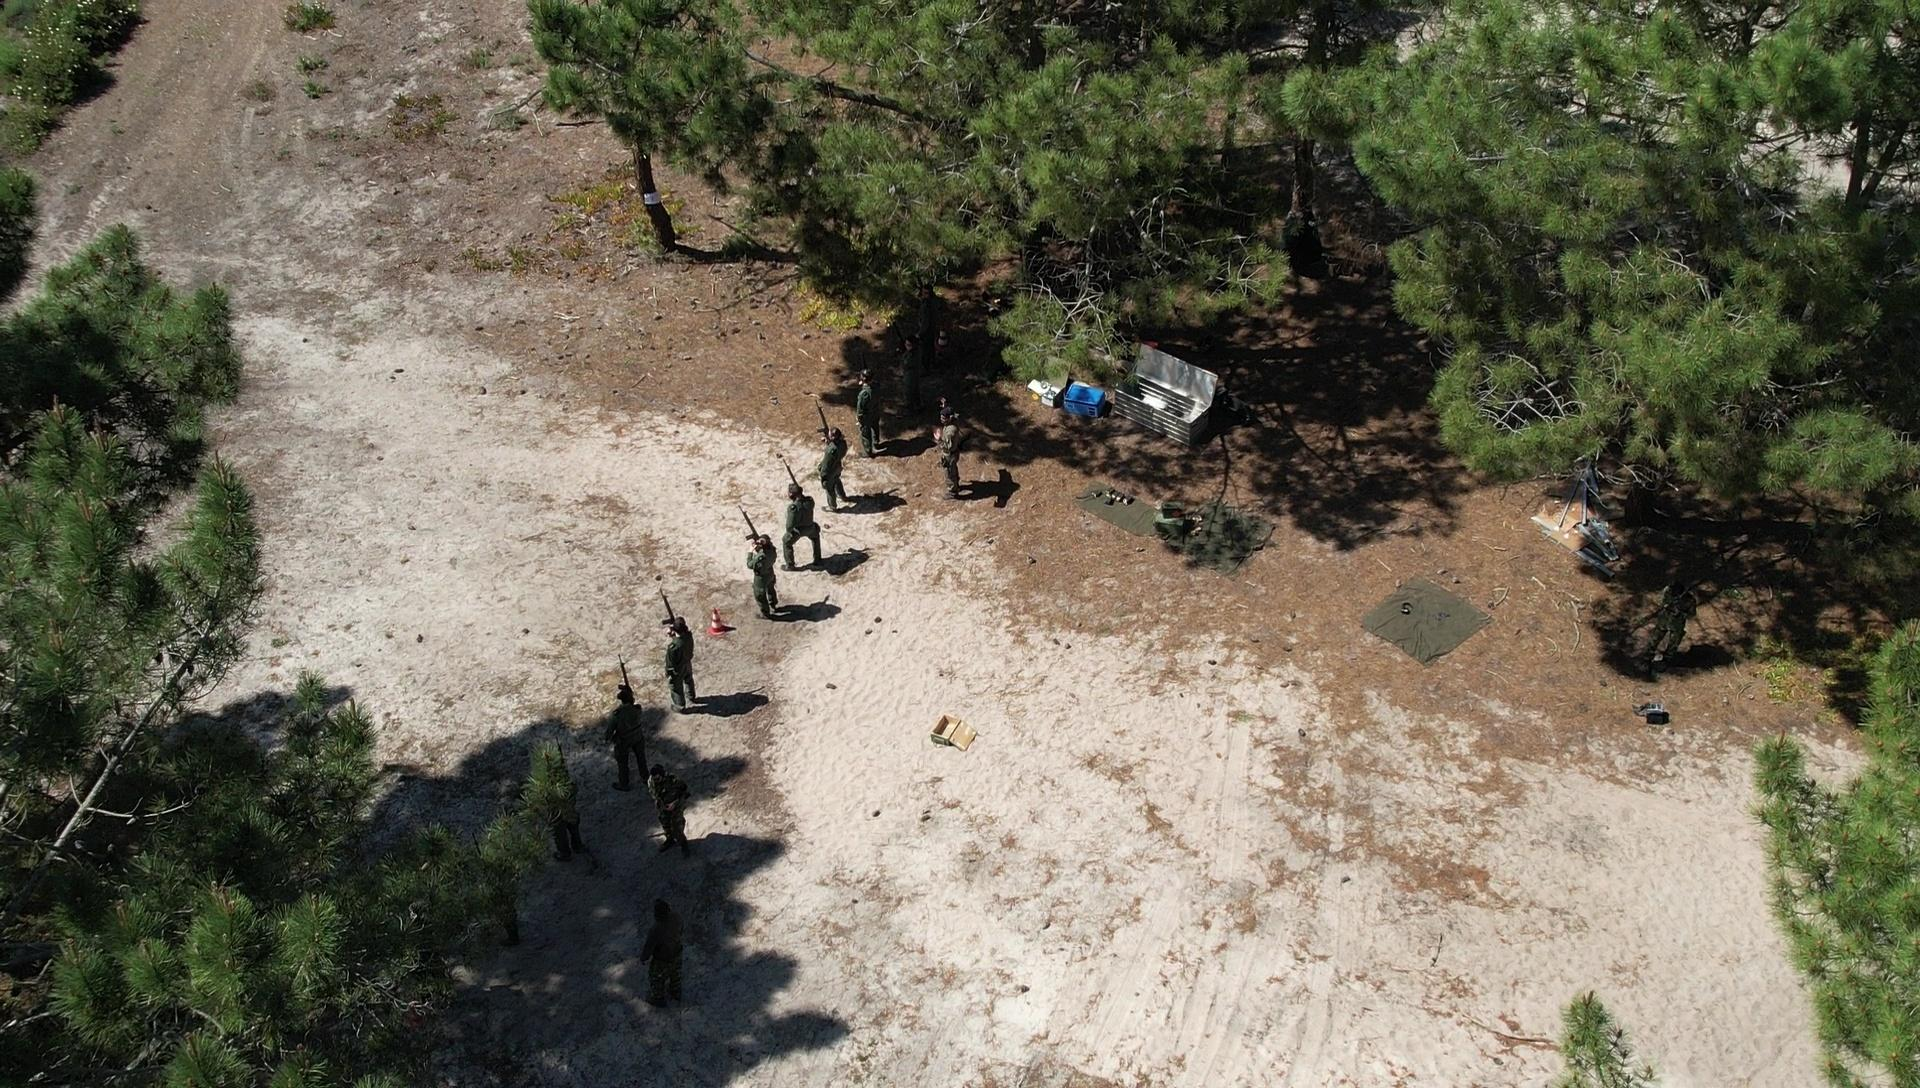Soldier: (653, 599, 712, 732), (603, 655, 653, 797), (636, 895, 691, 1017), (541, 729, 587, 870), (651, 754, 709, 862), (738, 520, 791, 634), (778, 473, 827, 587), (808, 386, 856, 502), (1651, 547, 1701, 644), (930, 400, 969, 502), (901, 324, 940, 415), (855, 357, 886, 462)
